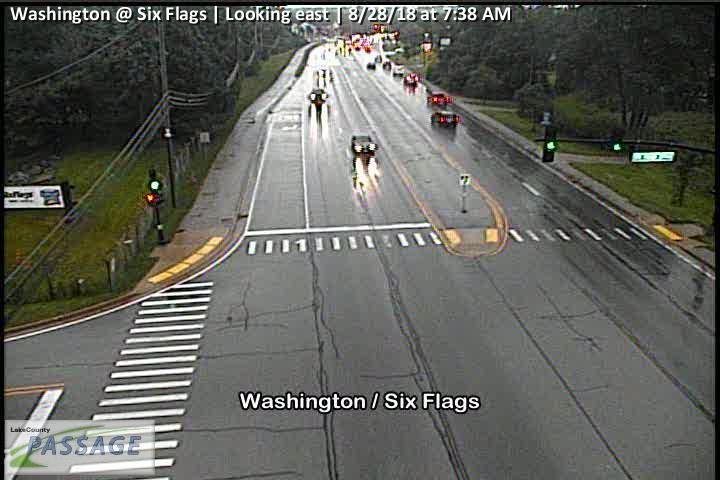Sedan: (350, 133, 377, 155), (430, 110, 459, 128), (427, 90, 452, 106), (310, 87, 328, 104)
